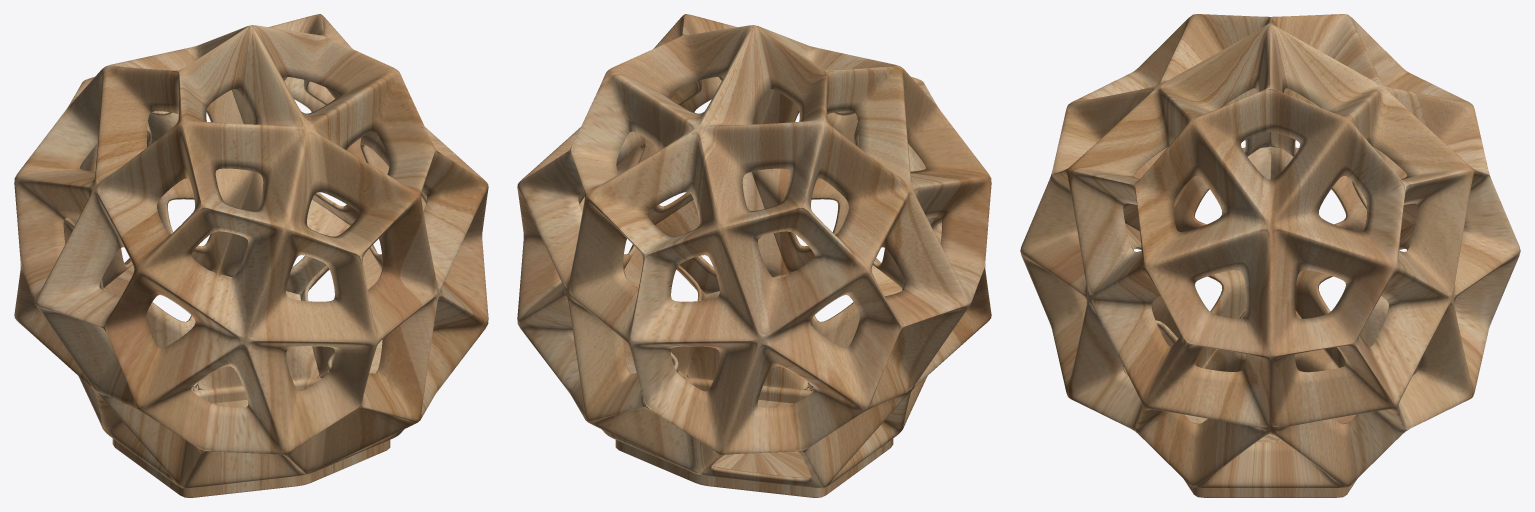
3 views of the same model, side by side, from view 1: azimuth 30°, elevation 25°; view 2: azimuth 150°, elevation 25°; view 3: azimuth 270°, elevation 25° (orthographic).
Visible parts, largest first — view 1: Esc3; view 2: Esc3; view 3: Esc3.
Part boxes in pixels (x1,y1,x2,y2): Esc3: (14, 14, 488, 497); Esc3: (517, 14, 991, 497); Esc3: (1020, 14, 1520, 497).
Size of what is drawn, in the model's own units: 0.86 by 0.8021 by 0.86.
Materials: 1 (1 with a texture image).
